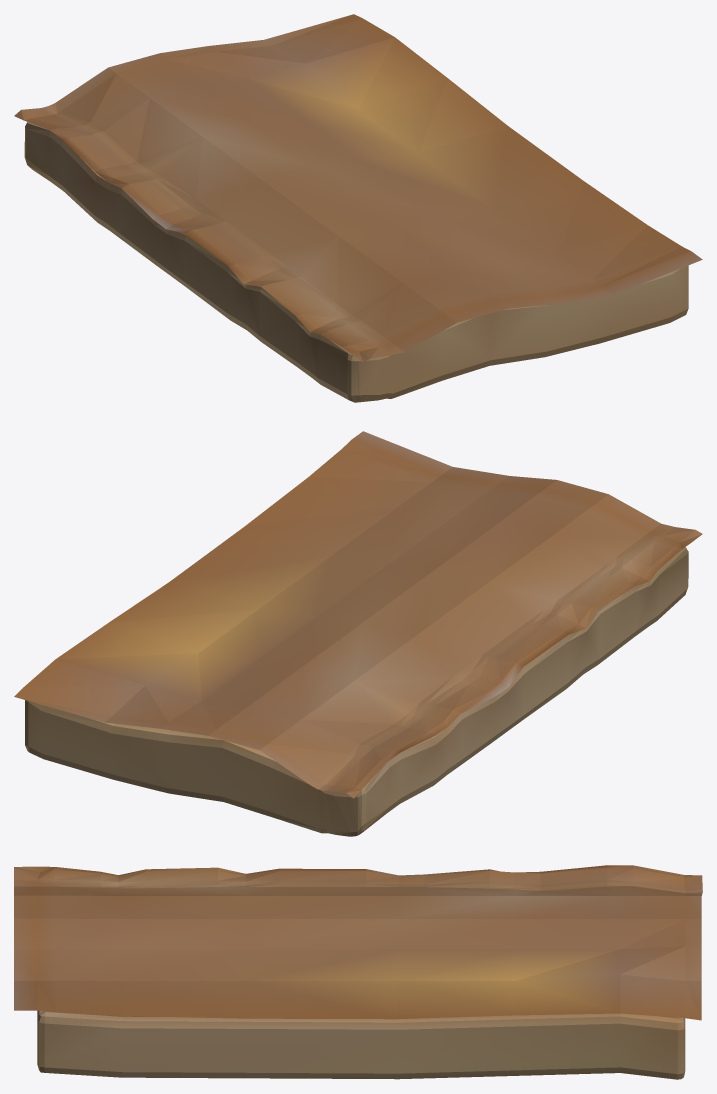
The model's file is gyeongbokgung_cheonchujeon_book_be19cb79.glb.
The picture shows the model from 3 angles, top to bottom: view 1: azimuth 30°, elevation 25°; view 2: azimuth 150°, elevation 25°; view 3: azimuth 270°, elevation 25°; orthographic projection.
Parts seen in each view (by area): view 1: SM_CCJ_BookA_M_CCJ_BookA_0; view 2: SM_CCJ_BookA_M_CCJ_BookA_0; view 3: SM_CCJ_BookA_M_CCJ_BookA_0.
Part boxes in pixels (<box>): SM_CCJ_BookA_M_CCJ_BookA_0: <box>14,14,702,402</box>; SM_CCJ_BookA_M_CCJ_BookA_0: <box>14,431,702,836</box>; SM_CCJ_BookA_M_CCJ_BookA_0: <box>14,865,702,1079</box>.
Size of the model in its own units: 0.1516 by 0.0364 by 0.2686.
